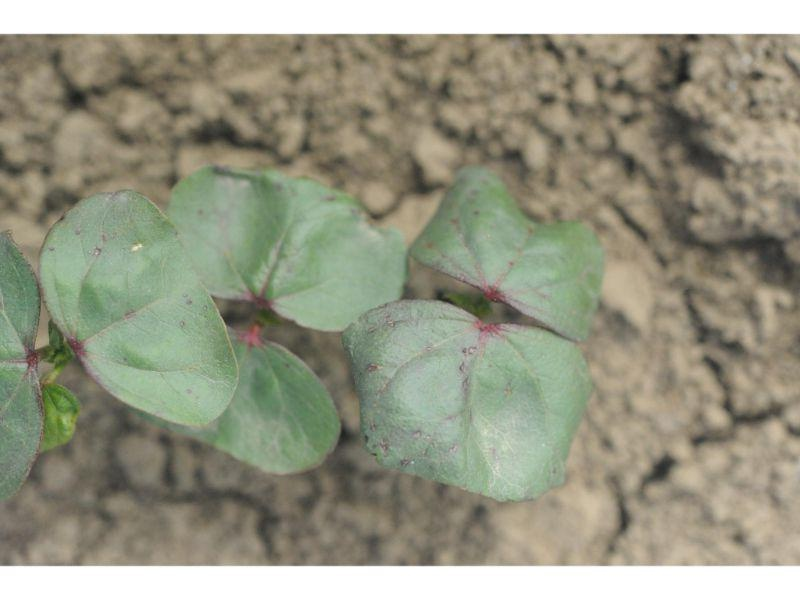cotton: (0, 164, 606, 501)
